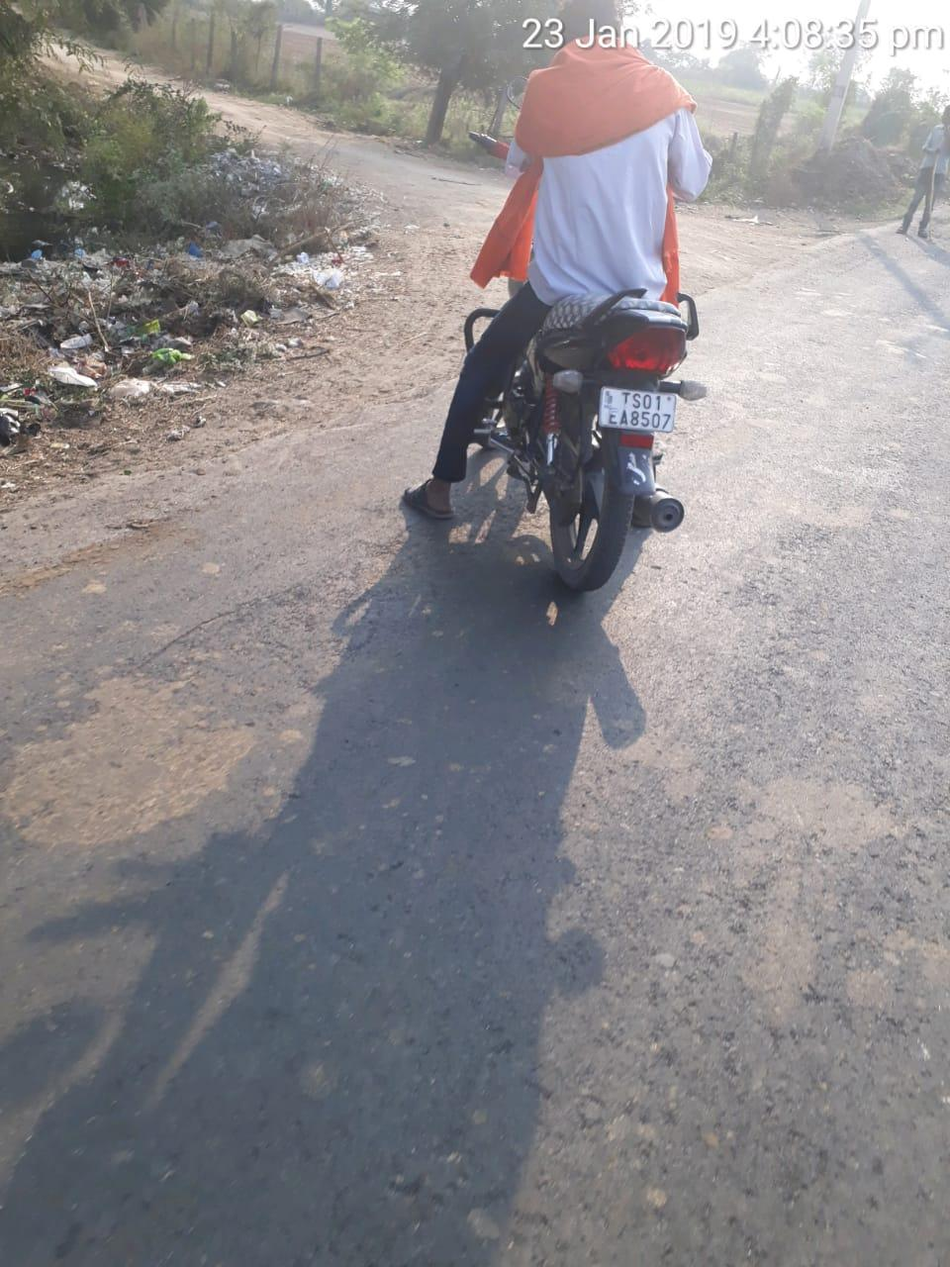plate: (595, 370, 694, 442)
